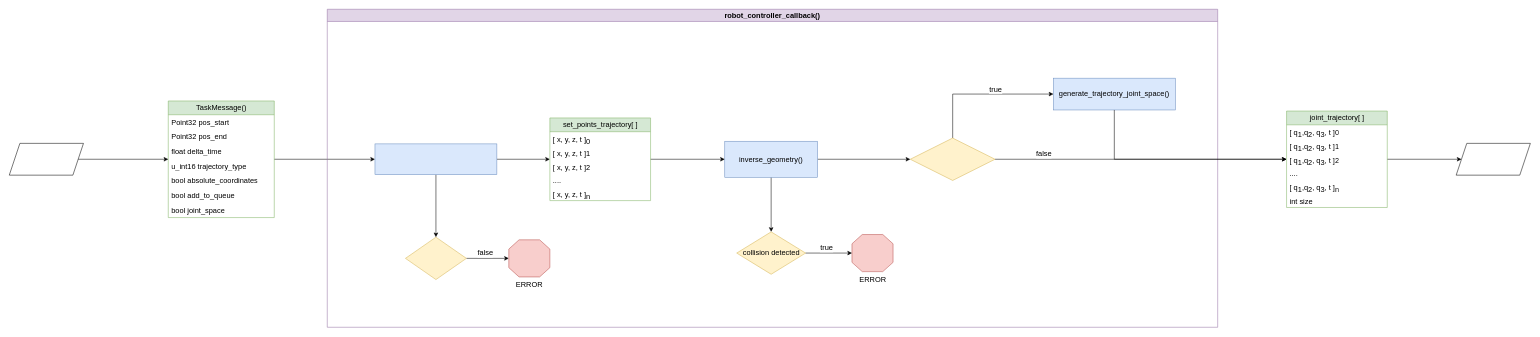
Some shapes in this 1540 by 337 pixel diagram are drawn without their labels. The shapes that lost their labels are listed below. From the top down, each one's centre as x and y in pixels, then its label:
At (46,159): "trajectory_task".
At (435,159): "generate_trajectory_task_space()".
At (952,159): "joint_space".
At (1493,159): "joint_trajectory".
At (435,258): "valid trajectory".
